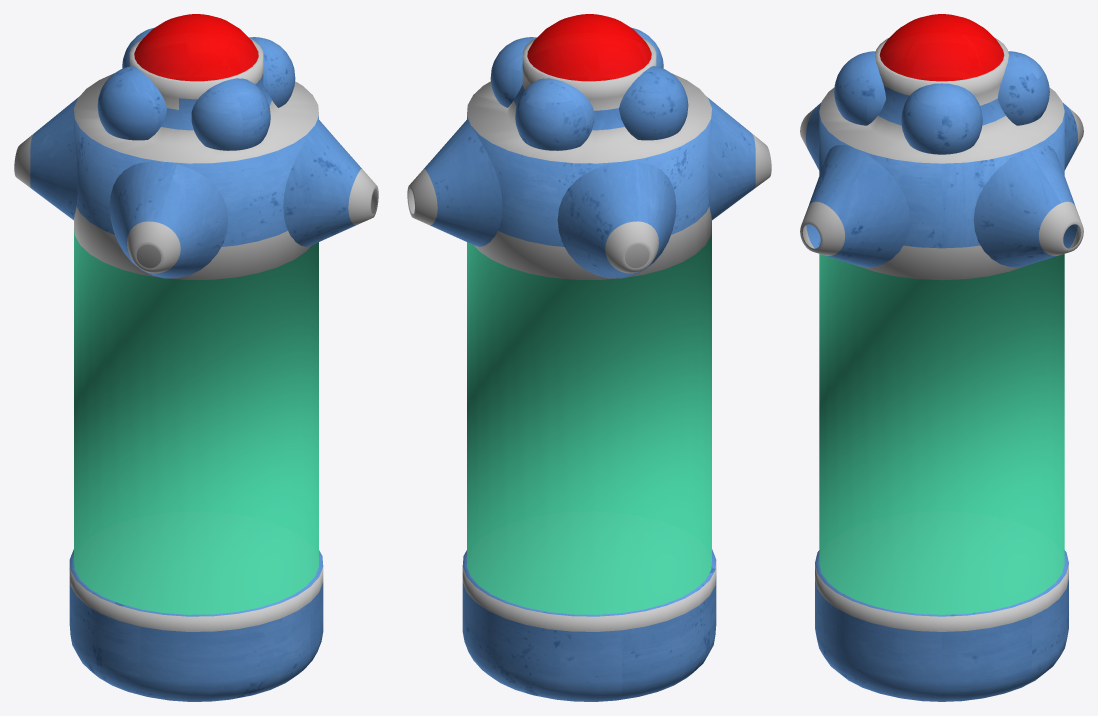
The picture shows the model from 3 angles, left to right: view 1: azimuth 30°, elevation 25°; view 2: azimuth 150°, elevation 25°; view 3: azimuth 270°, elevation 25°; orthographic projection.
Visible parts, largest first — view 1: Cylinder, Circle, Sphere, Half sphere; view 2: Cylinder, Circle, Sphere, Half sphere; view 3: Cylinder, Circle, Sphere, Half sphere.
Part boxes in pixels (left/top/right/bottom): Cylinder: left=69, top=37, right=323, bottom=701; Circle: left=14, top=97, right=378, bottom=278; Sphere: left=97, top=27, right=295, bottom=150; Half sphere: left=134, top=14, right=258, bottom=81; Cylinder: left=462, top=37, right=716, bottom=701; Circle: left=407, top=97, right=771, bottom=278; Sphere: left=490, top=27, right=688, bottom=150; Half sphere: left=527, top=14, right=651, bottom=81; Cylinder: left=815, top=38, right=1068, bottom=701; Circle: left=800, top=103, right=1083, bottom=267; Sphere: left=834, top=51, right=1049, bottom=154; Half sphere: left=879, top=14, right=1004, bottom=81.
Bounding box in the file's own units: 201 × 500 × 201.
